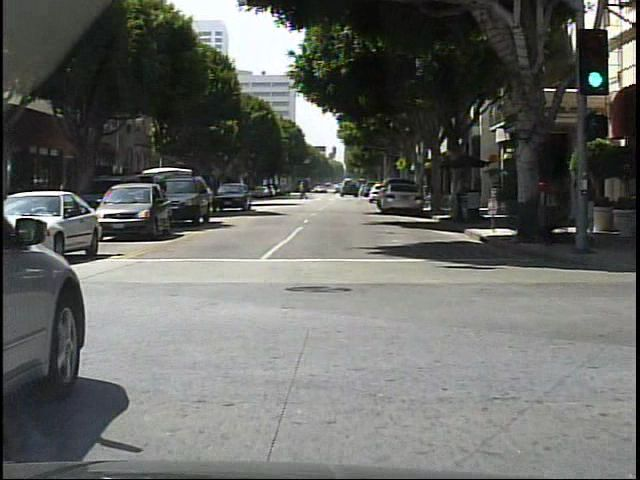car: (4, 208, 90, 408), (11, 186, 108, 260), (99, 184, 170, 242), (162, 171, 211, 228), (377, 180, 424, 215), (216, 180, 253, 216)
